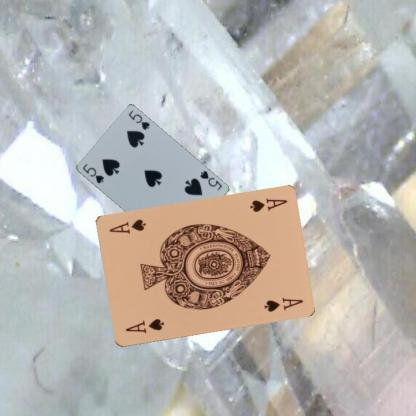5s: (197, 168, 223, 192), (80, 161, 105, 185)
As: (122, 316, 166, 335), (247, 196, 288, 214)
